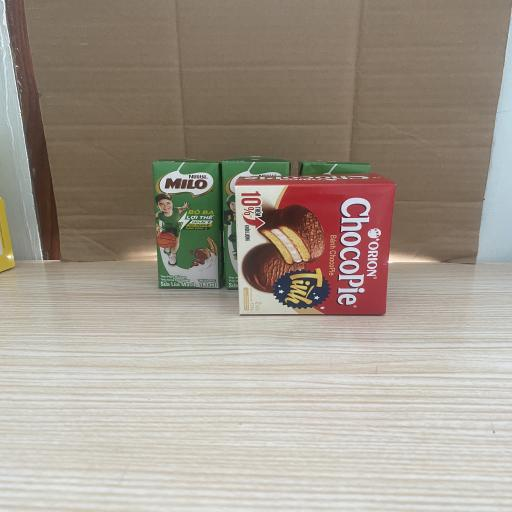chocopie: (235, 173, 396, 316), (234, 173, 396, 315)
milo: (220, 156, 292, 289), (152, 158, 222, 289), (222, 157, 291, 288), (152, 159, 222, 288), (297, 159, 372, 176)
